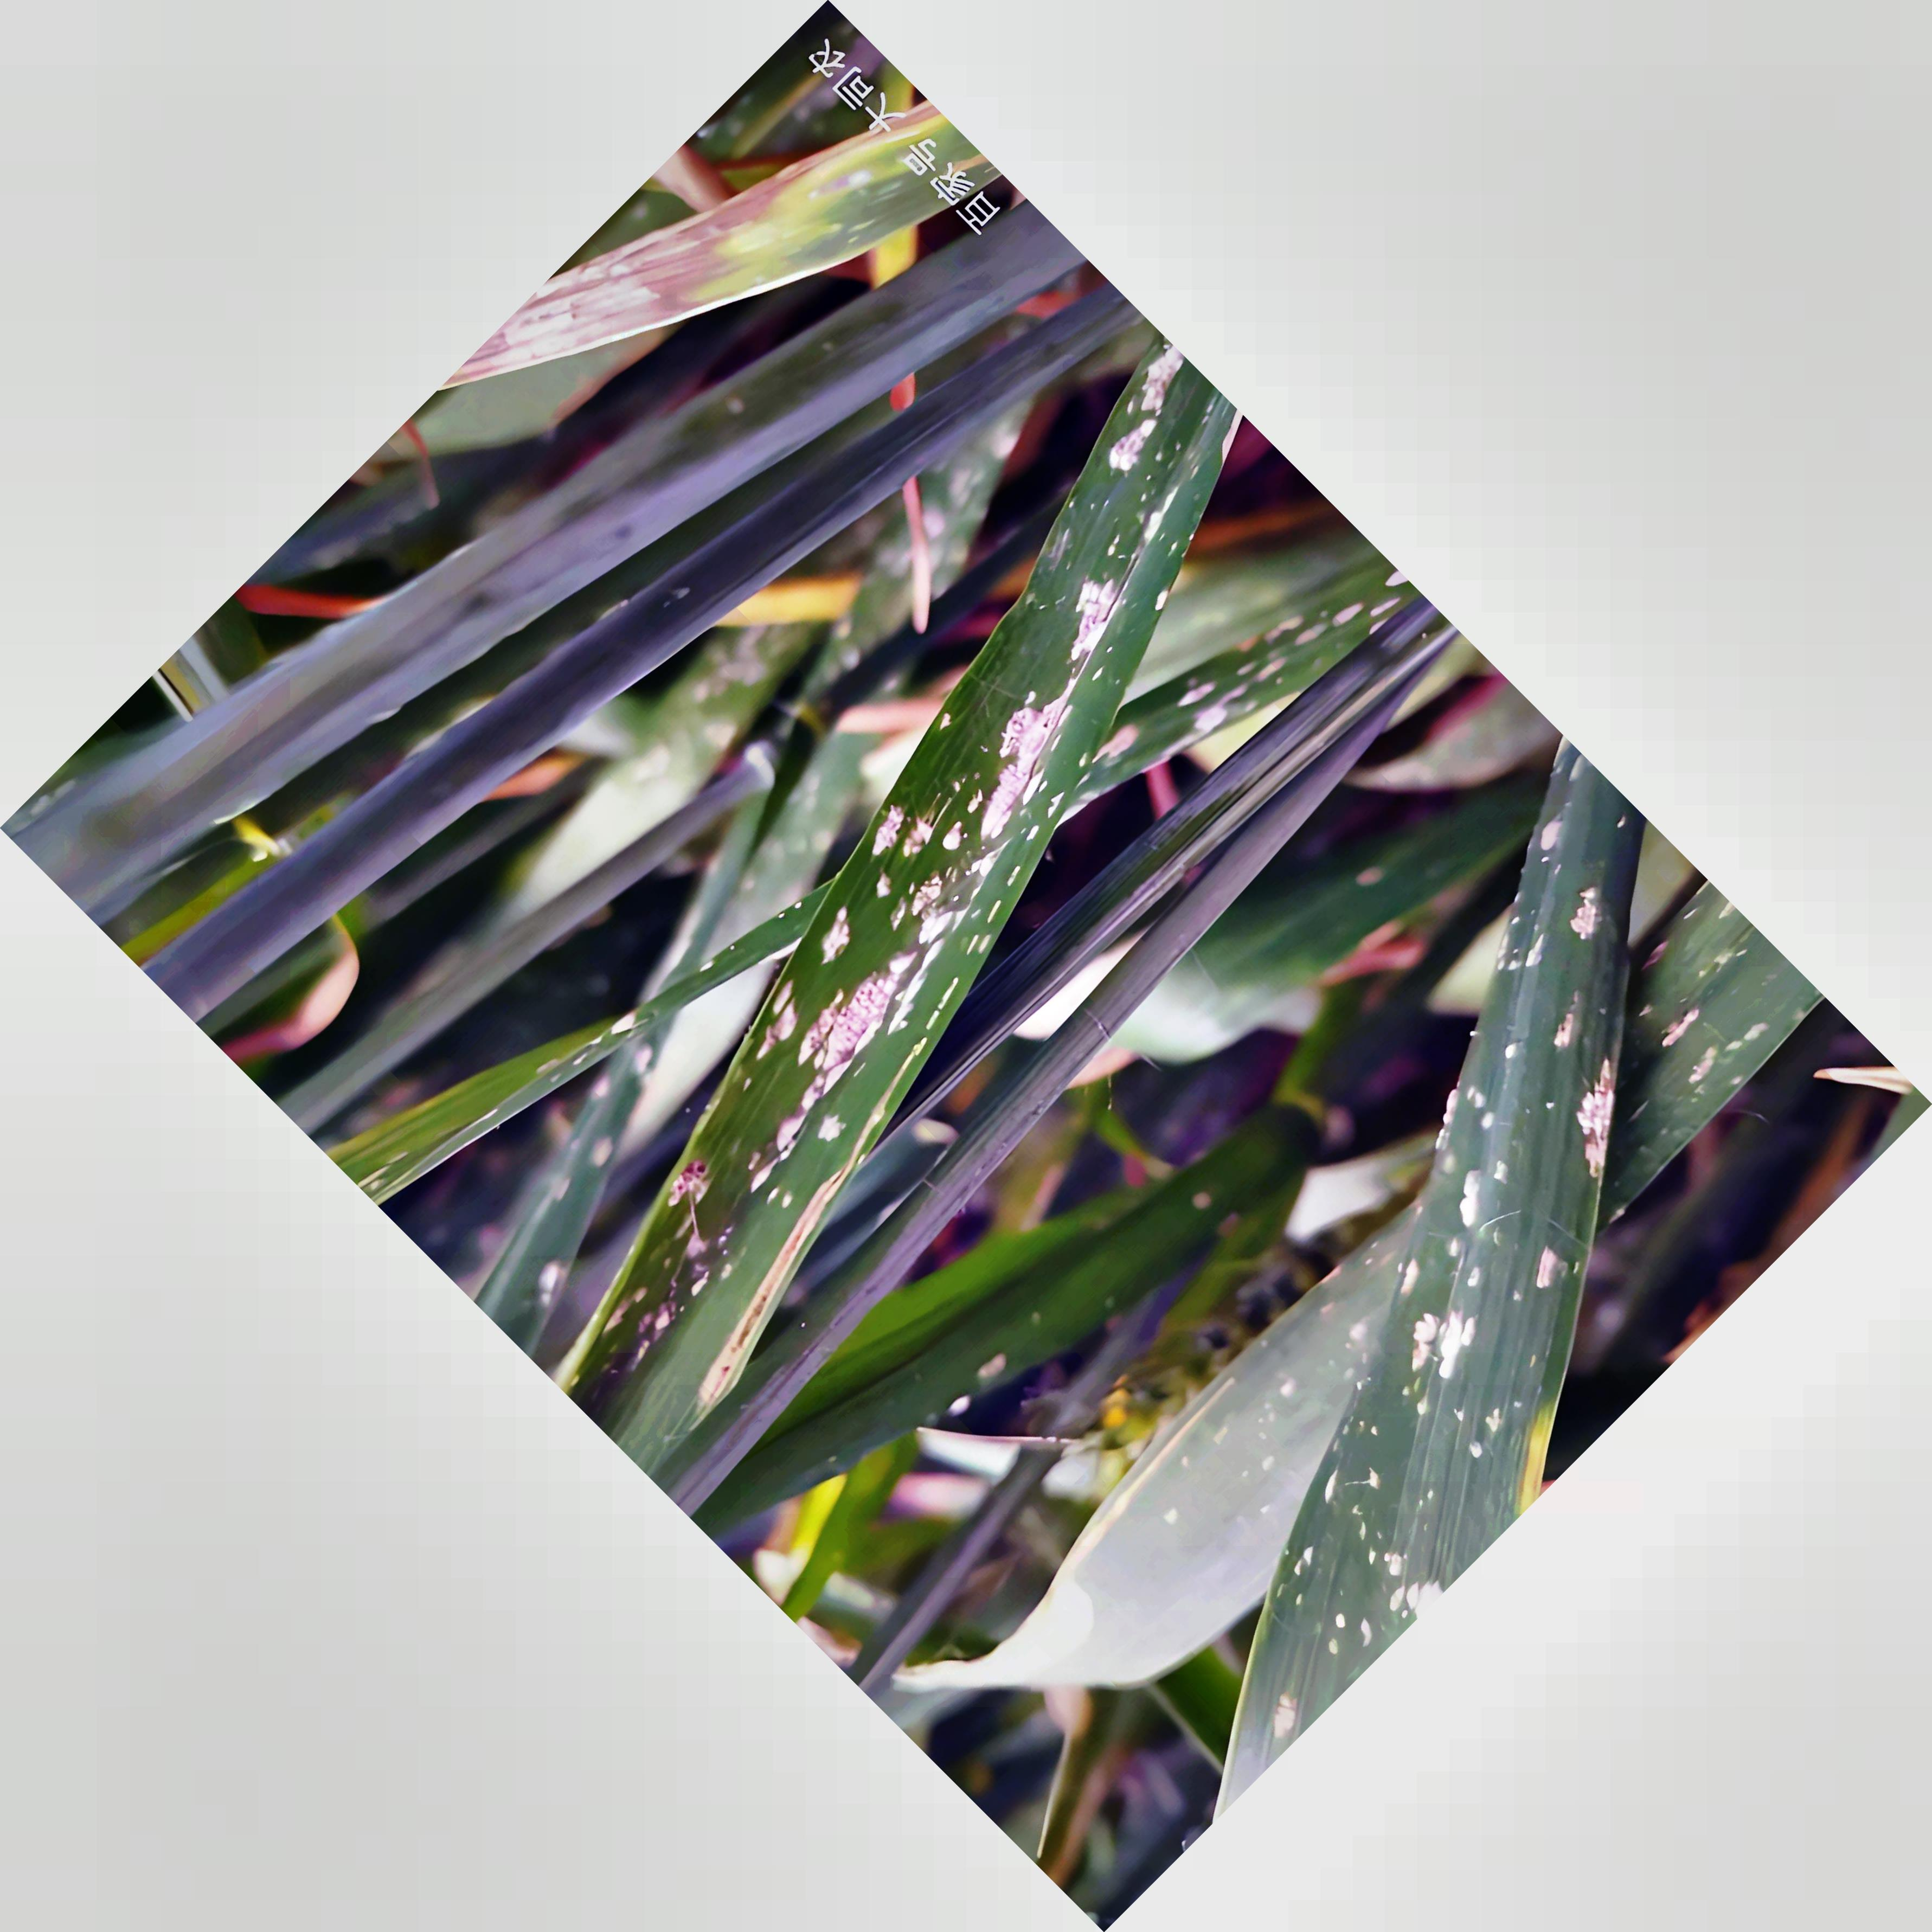Powdery Mildew: (711, 419, 1182, 1230), (1357, 798, 1658, 1608)
